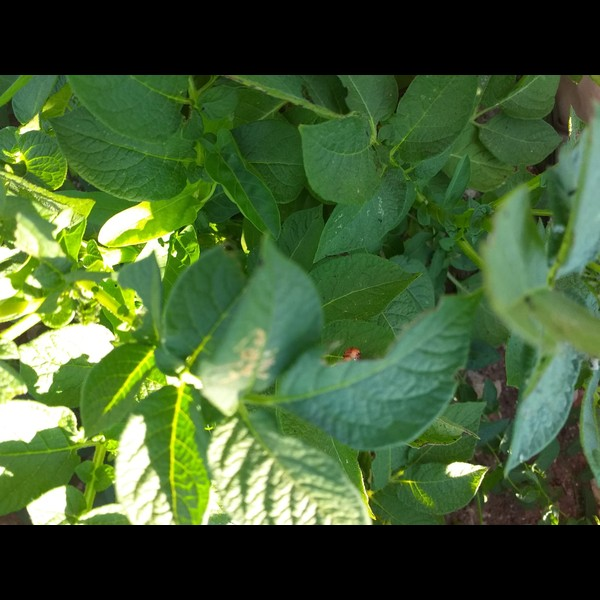hrosc: (342, 347, 364, 365)
